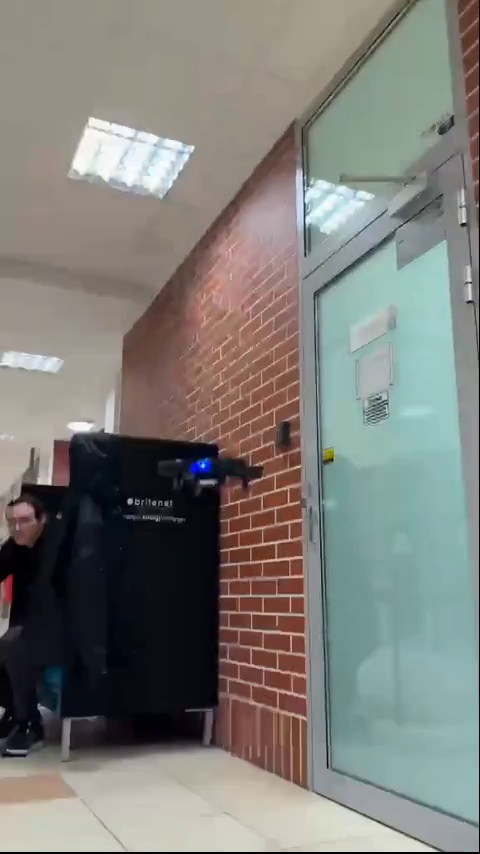drone: (162, 452, 262, 494)
no vest: (0, 496, 68, 760)
